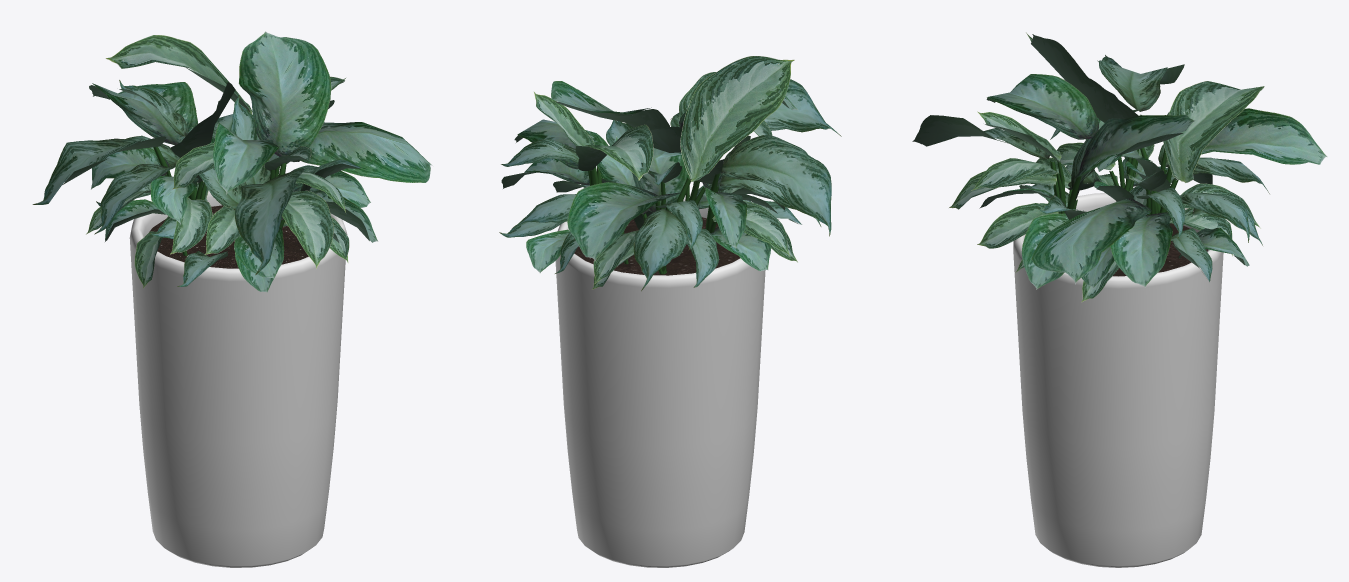
Rendered from tall_potted_house_plant.glb.
3 views of the same model, side by side, from view 1: azimuth 30°, elevation 25°; view 2: azimuth 150°, elevation 25°; view 3: azimuth 270°, elevation 25° (orthographic). The views are drawn at different scales.
Parts seen in each view (by area): view 1: potTall_aglaonema; view 2: potTall_aglaonema; view 3: potTall_aglaonema.
Boxes of the visible parts, x1,y1,x2,y2 form: potTall_aglaonema: (32,31,432,567); potTall_aglaonema: (499,56,841,567); potTall_aglaonema: (912,32,1327,567).
Bounding box in the file's own units: 1.25 × 1.61 × 1.3.
Materials: 3 (2 with a texture image).
